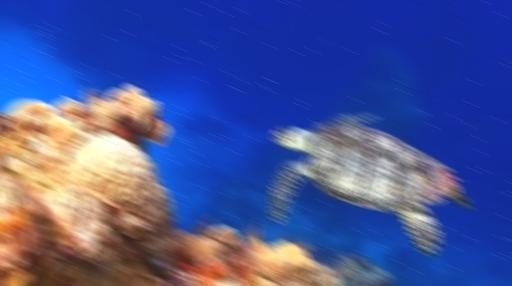Fish: (268, 115, 470, 255)
